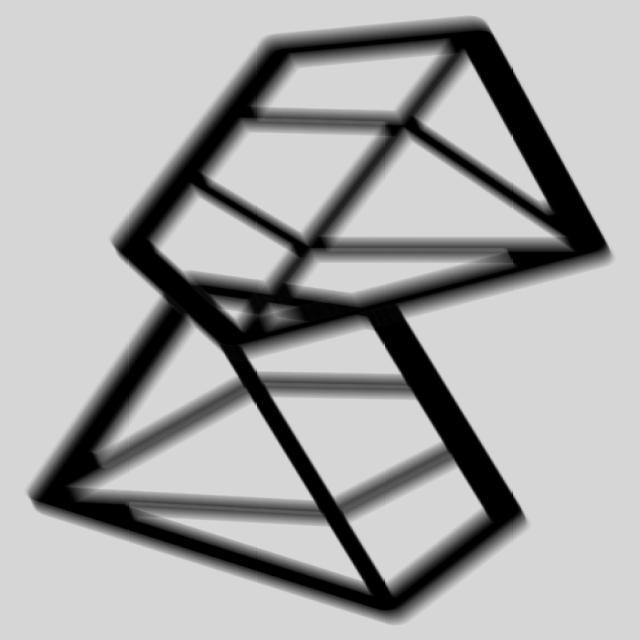diamond: (102, 5, 621, 395), (22, 273, 537, 629)
